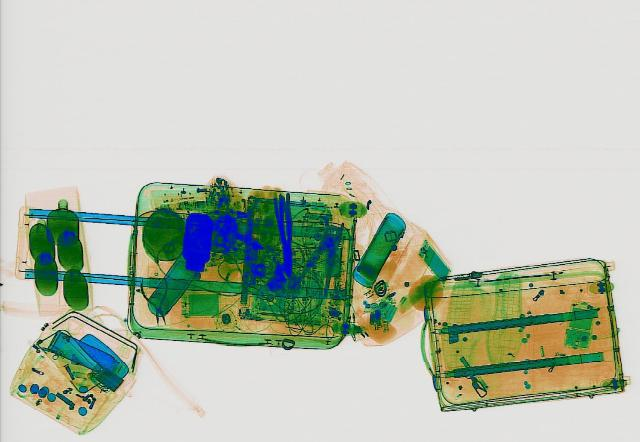Pliers: (271, 193, 297, 277)
